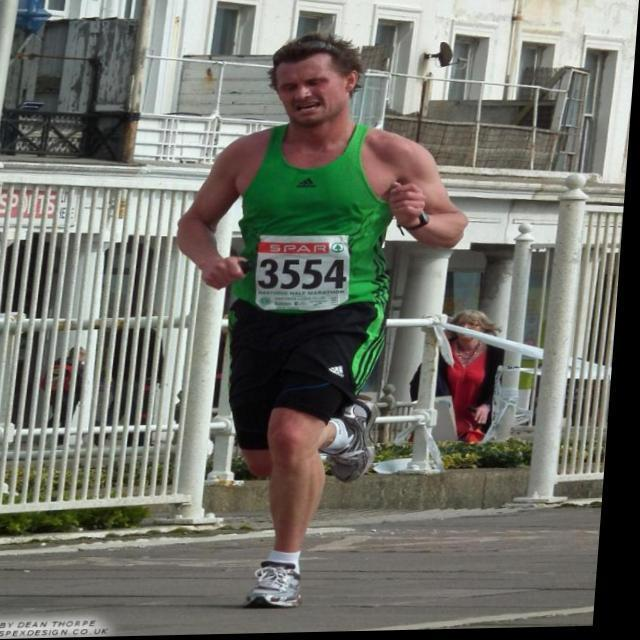dorsal: (243, 227, 378, 324)
